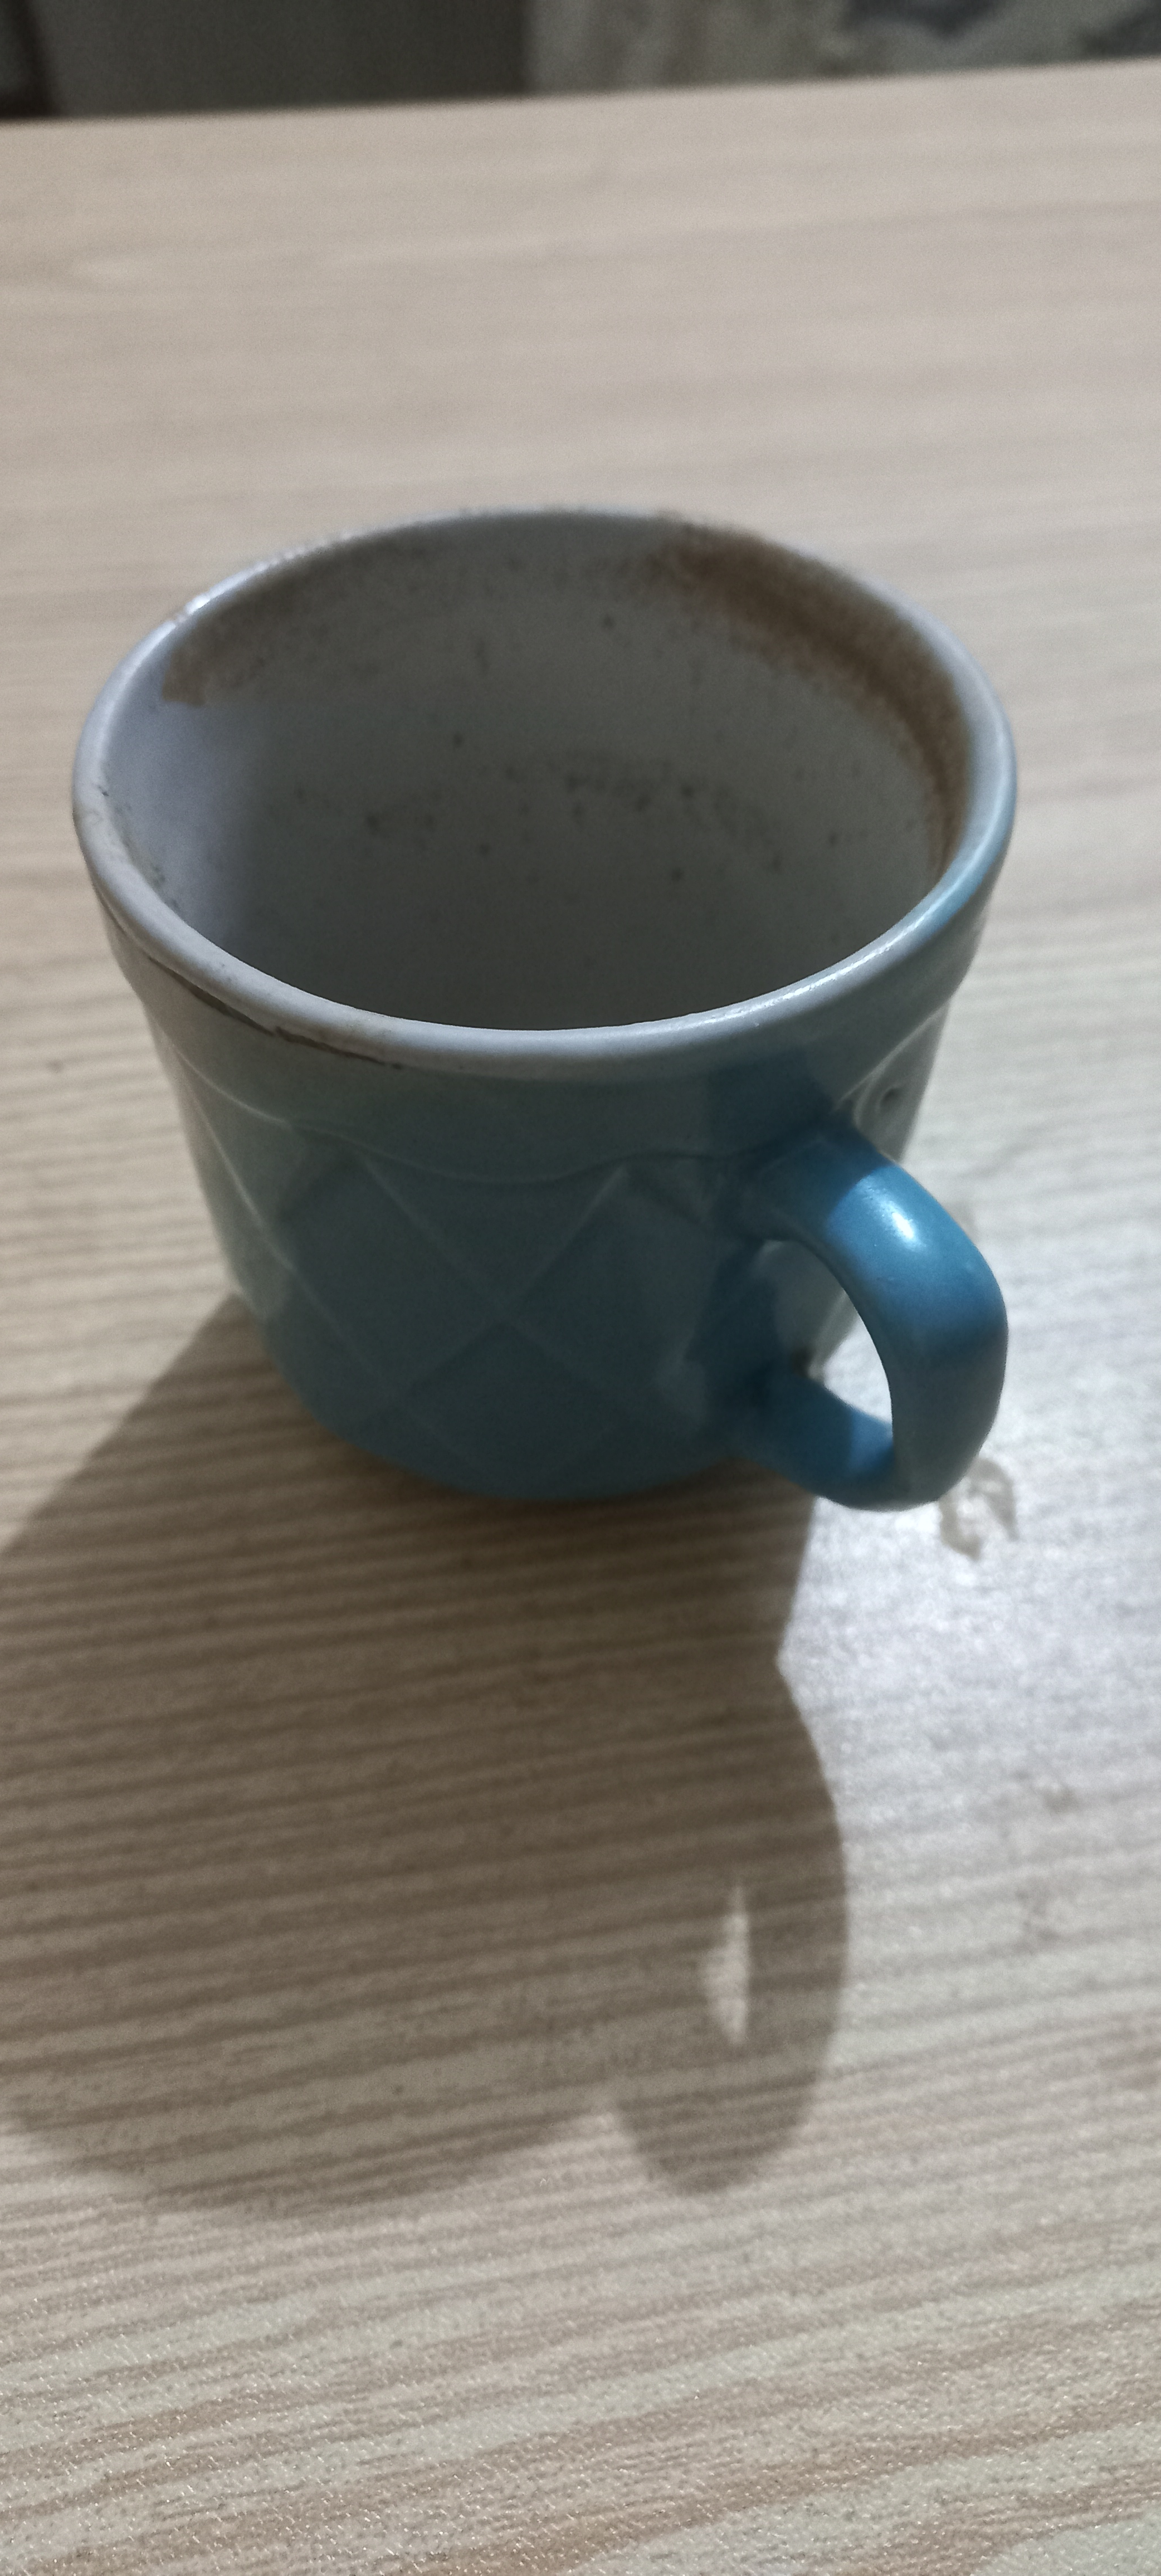cup: (59, 473, 1074, 1539)
